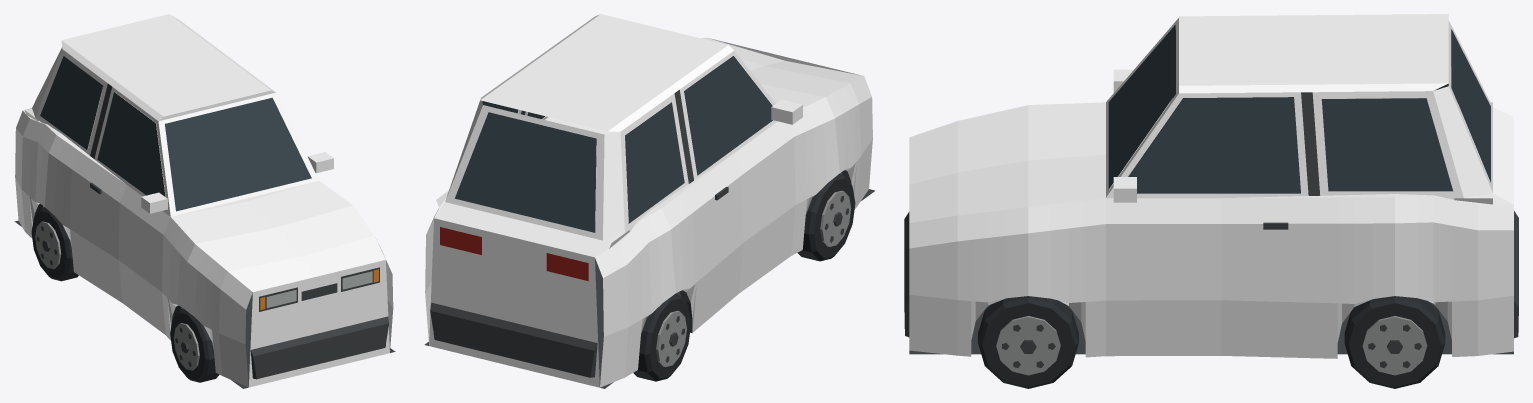
The model's file is kosame_hiryu_98.glb.
3 views of the same model, side by side, from view 1: azimuth 30°, elevation 25°; view 2: azimuth 150°, elevation 25°; view 3: azimuth 270°, elevation 25° (orthographic). The views are drawn at different scales.
Parts seen in each view (by area): view 1: kosame_hiryu_98; view 2: kosame_hiryu_98; view 3: kosame_hiryu_98.
Boxes of the visible parts, x1,y1,x2,y2 form: kosame_hiryu_98: (14,14,395,388); kosame_hiryu_98: (424,14,874,388); kosame_hiryu_98: (904,14,1518,388).
Size of the model in its own units: 1.45 by 1.63 by 3.17.
Materials: 8 (1 with a texture image).
